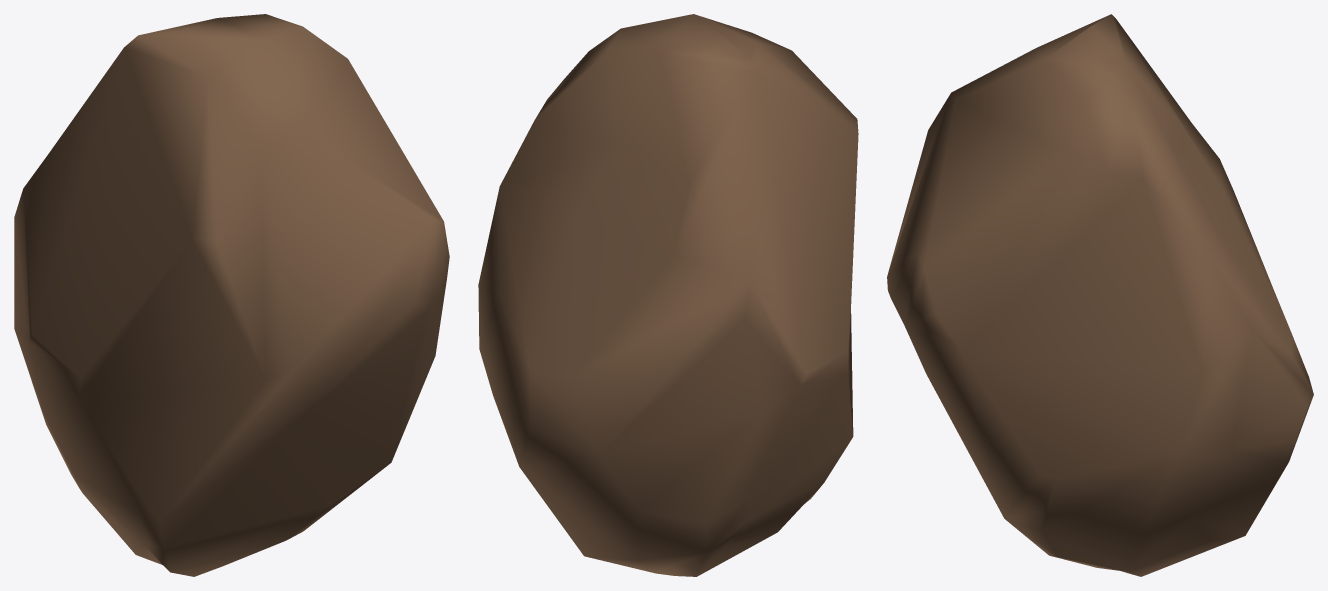
Rendered from SM_rock05_low.fbx.
3 views of the same model, side by side, from view 1: azimuth 30°, elevation 25°; view 2: azimuth 150°, elevation 25°; view 3: azimuth 270°, elevation 25° (orthographic). The views are drawn at different scales.
Parts seen in each view (by area): view 1: polySurface534; view 2: polySurface534; view 3: polySurface534.
Boxes of the visible parts, x1,y1,x2,y2 form: polySurface534: [14, 14, 449, 576]; polySurface534: [478, 14, 858, 576]; polySurface534: [887, 14, 1313, 576].
Bounding box in the file's own units: 54.22 × 84.59 × 61.37.
